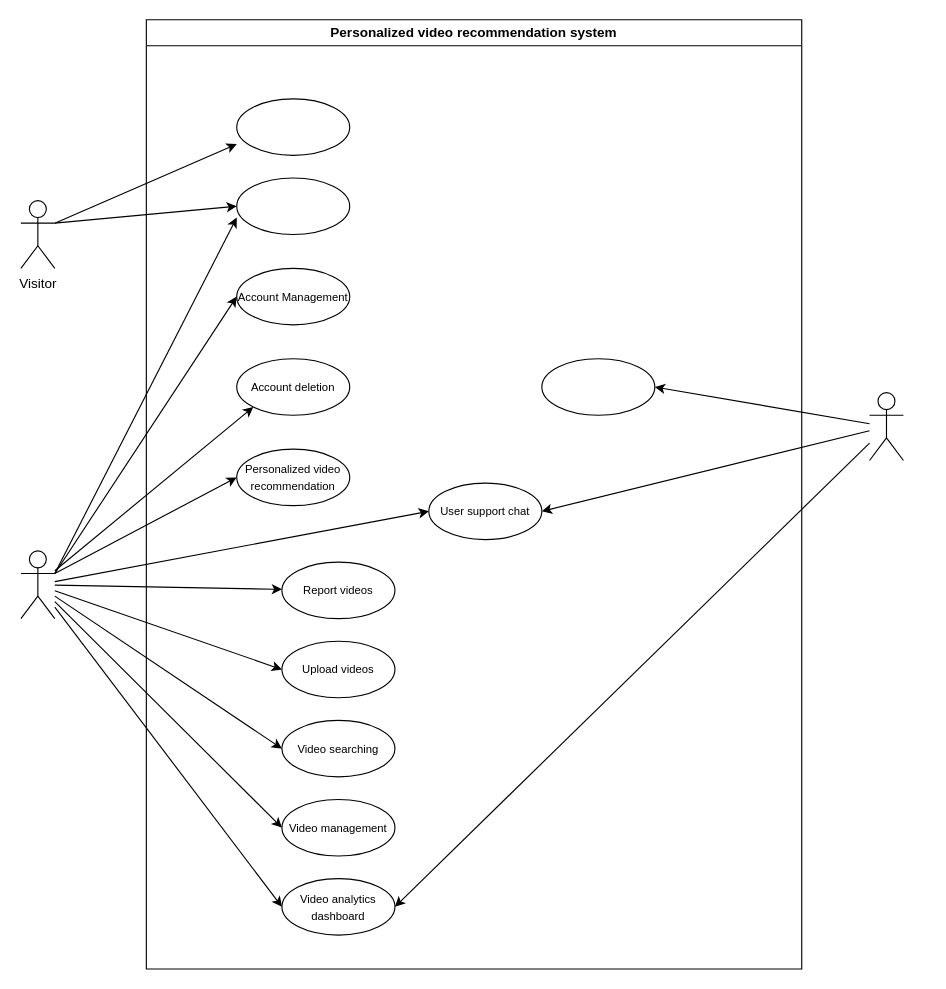
This 946x989 diagram has some shape labels left out. Here are the shapes that lost their labels. From the top down, the centre of each, then its label:
At (293,126): "Account Creation".
At (293,205): "View videos".
At (598,386): "Video moderation".
At (885,426): "Administrator".
At (37,584): "Users".
